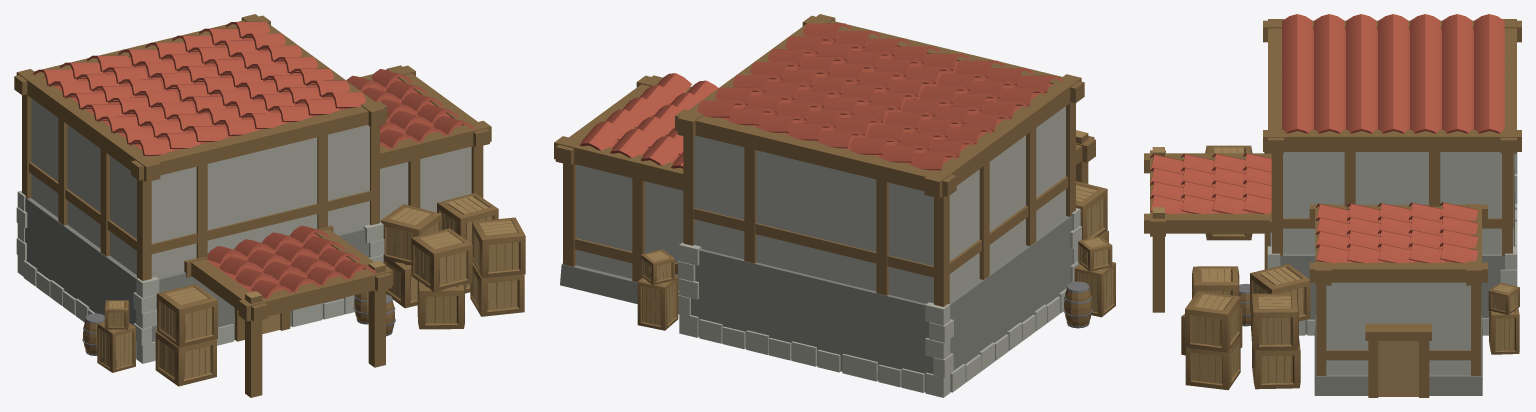
File: business_building.glb
3 views of the same model, side by side, from view 1: azimuth 30°, elevation 25°; view 2: azimuth 150°, elevation 25°; view 3: azimuth 270°, elevation 25° (orthographic). The views are drawn at different scales.
Visible parts, largest first — view 1: Storage_SecondAge_Level3_80ba7c, Storage_SecondAge_Level3_2d3554, Storage_SecondAge_Level3_0edc47, Storage_SecondAge_Level3_3246f9, Storage_SecondAge_Level3_faebcb, Storage_SecondAge_Level3, Storage_SecondAge_Level3_1cae83; view 2: Storage_SecondAge_Level3_0edc47, Storage_SecondAge_Level3_80ba7c, Storage_SecondAge_Level3_2d3554, Storage_SecondAge_Level3_faebcb, Storage_SecondAge_Level3, Storage_SecondAge_Level3_3246f9; view 3: Storage_SecondAge_Level3_2d3554, Storage_SecondAge_Level3_80ba7c, Storage_SecondAge_Level3_0edc47, Storage_SecondAge_Level3_3246f9, Storage_SecondAge_Level3_faebcb, Storage_SecondAge_Level3.
Part boxes in pixels (x1,y1,x2,y2): Storage_SecondAge_Level3_80ba7c: (14,14,525,397); Storage_SecondAge_Level3_2d3554: (33,21,474,299); Storage_SecondAge_Level3_0edc47: (31,98,471,278); Storage_SecondAge_Level3_3246f9: (100,196,518,379); Storage_SecondAge_Level3_faebcb: (25,198,369,342); Storage_SecondAge_Level3: (16,190,384,363); Storage_SecondAge_Level3_1cae83: (82,294,395,355); Storage_SecondAge_Level3_0edc47: (576,106,1065,303); Storage_SecondAge_Level3_80ba7c: (554,14,1115,330); Storage_SecondAge_Level3_2d3554: (579,23,1062,170); Storage_SecondAge_Level3_faebcb: (560,216,1072,391); Storage_SecondAge_Level3: (678,208,1081,397); Storage_SecondAge_Level3_3246f9: (642,130,1113,325); Storage_SecondAge_Level3_2d3554: (1150,14,1504,263); Storage_SecondAge_Level3_80ba7c: (1144,19,1521,397); Storage_SecondAge_Level3_0edc47: (1283,152,1501,374); Storage_SecondAge_Level3_3246f9: (1152,147,1517,396); Storage_SecondAge_Level3_faebcb: (1270,154,1514,395); Storage_SecondAge_Level3: (1267,152,1517,335).
Size of the model in its own units: 6.45 by 3.2 by 5.11.
